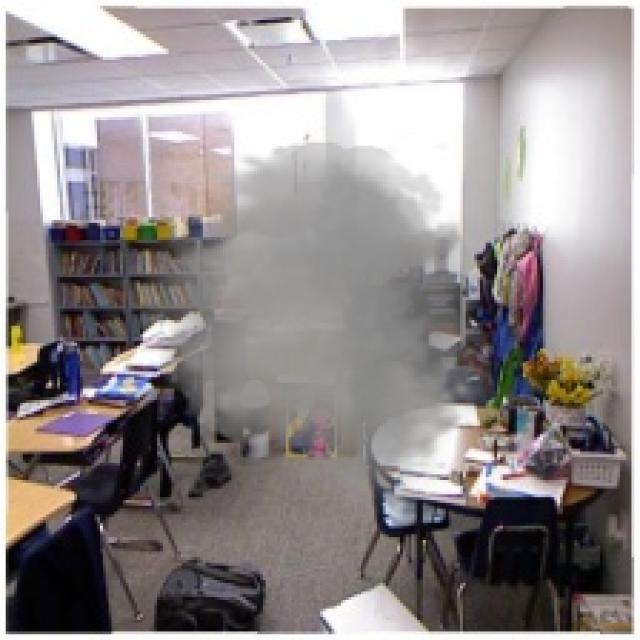smoke: (112, 131, 514, 523)
